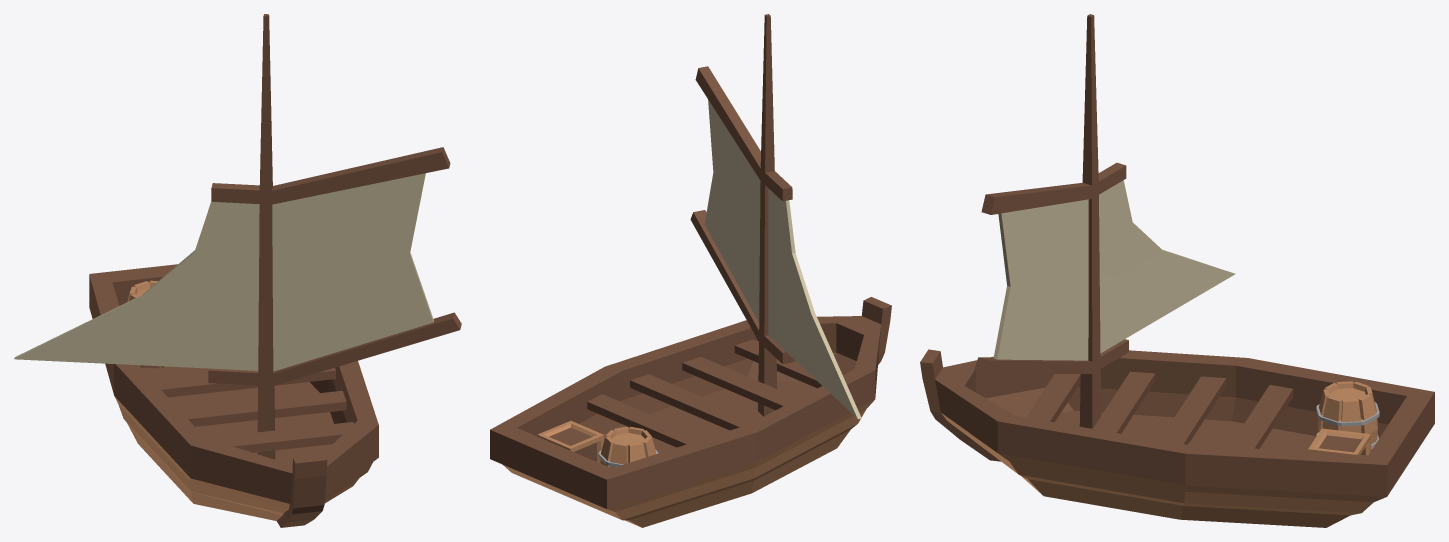
Rendered from boat.glb.
3 views of the same model, side by side, from view 1: azimuth 30°, elevation 25°; view 2: azimuth 150°, elevation 25°; view 3: azimuth 270°, elevation 25° (orthographic). The views are drawn at different scales.
Visible parts, largest first — view 1: Sail, Boat; view 2: Boat, Sail; view 3: Boat, Sail.
Part boxes in pixels (x1,y1,x2,y2): Sail: [14, 14, 461, 459]; Boat: [89, 264, 378, 527]; Boat: [490, 297, 891, 527]; Sail: [690, 14, 861, 418]; Boat: [920, 349, 1434, 527]; Sail: [974, 14, 1235, 428].
Size of the model in its own units: 6.46 by 8.61 by 8.9.
